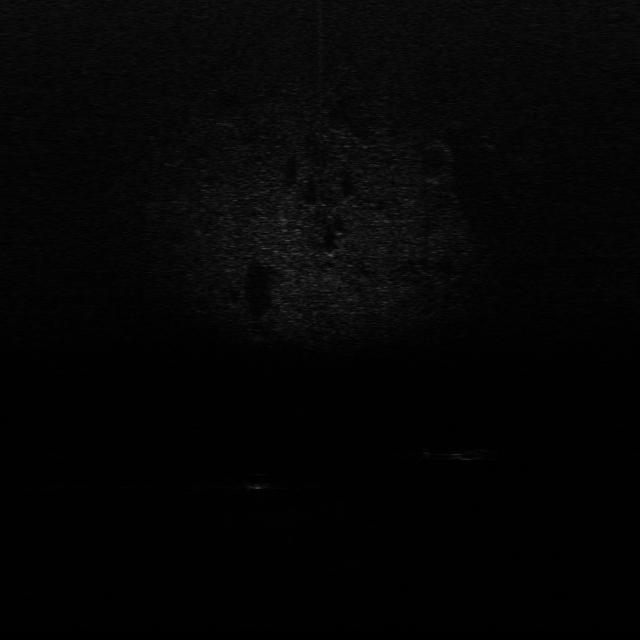ball: (236, 471, 274, 492)
human body: (423, 442, 498, 465)
